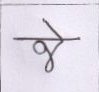e_matra: (42, 18, 65, 37)
